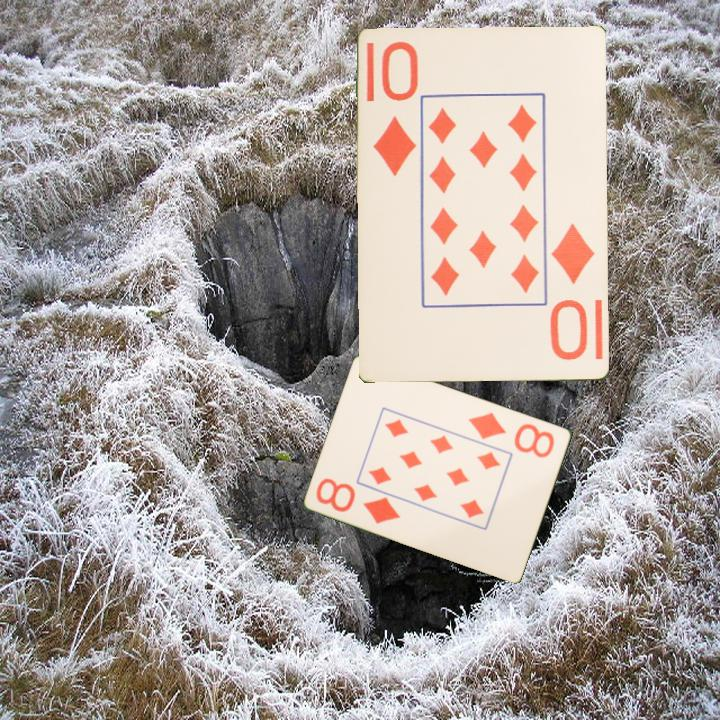10d: (547, 220, 599, 364), (370, 38, 419, 179)
8d: (465, 408, 558, 460), (313, 474, 404, 527)
